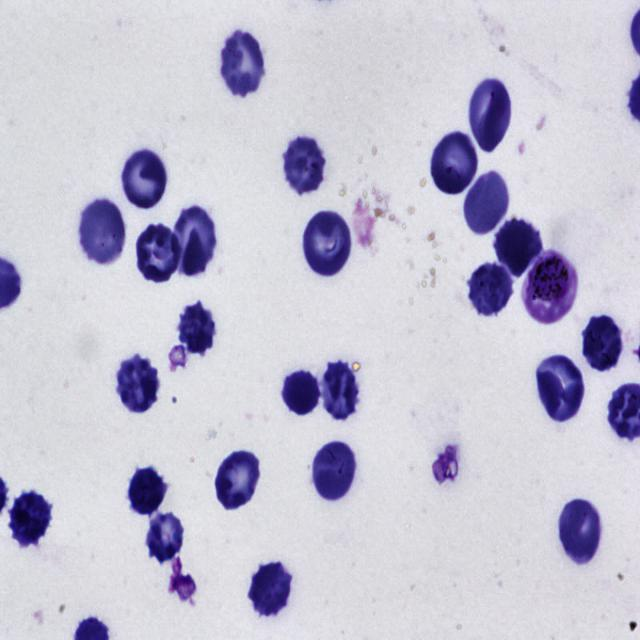gametocyte: (523, 252, 577, 326)
red blood cell: (536, 356, 585, 423), (172, 205, 217, 277), (304, 211, 351, 278), (558, 496, 604, 564), (469, 78, 511, 152), (494, 216, 544, 278), (121, 148, 171, 210), (309, 444, 360, 504), (432, 132, 478, 197), (464, 170, 509, 236), (80, 200, 125, 266), (215, 448, 261, 511), (222, 30, 264, 96), (283, 134, 328, 195), (136, 223, 180, 284), (8, 489, 53, 548), (117, 353, 160, 413), (250, 560, 293, 618), (468, 262, 514, 315), (583, 314, 625, 372), (322, 360, 361, 420), (176, 300, 217, 354), (145, 511, 186, 564), (282, 369, 322, 417), (128, 467, 168, 514)
